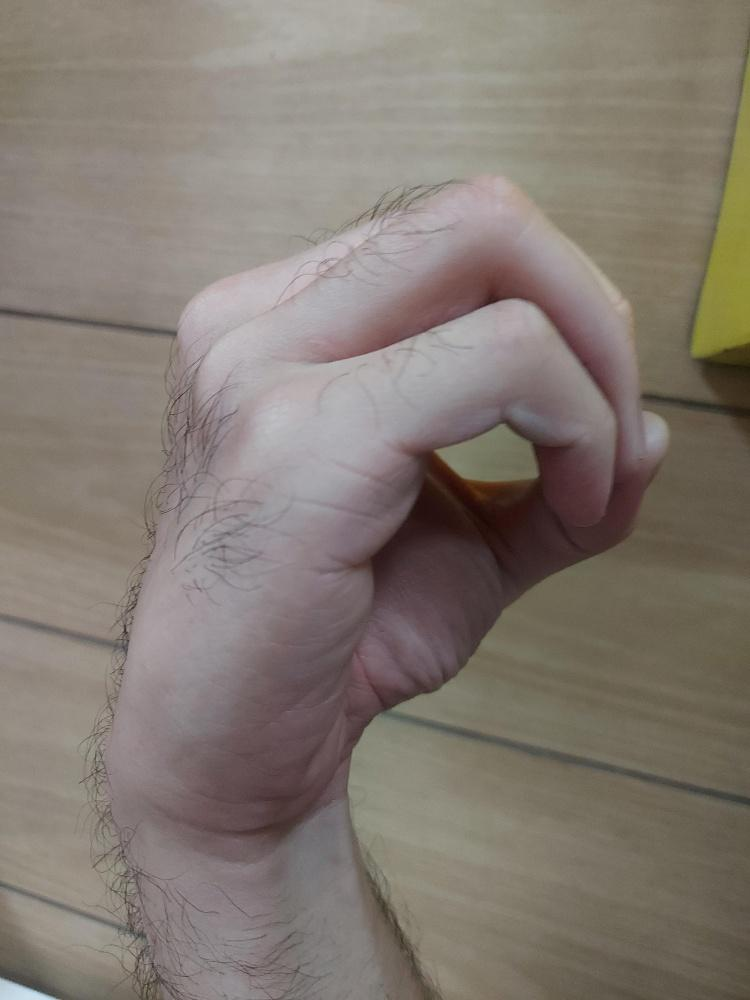o: (113, 172, 673, 836)
